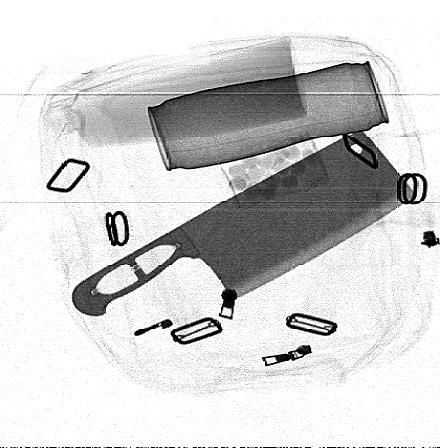Knife: (71, 128, 419, 318)
